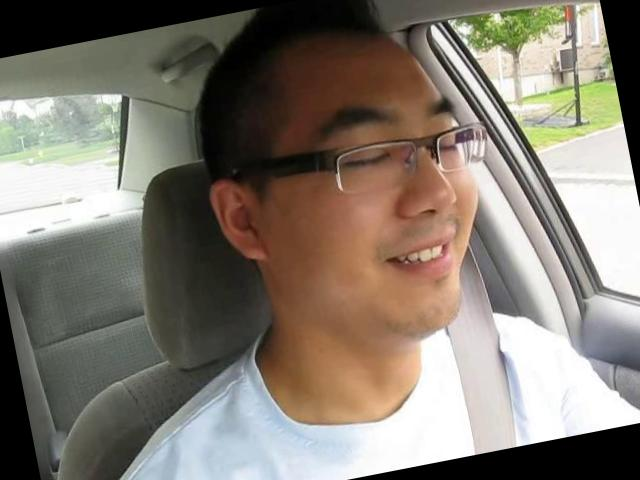eye_closed: (333, 142, 402, 184), (432, 132, 470, 160)
face: (261, 71, 507, 360)
